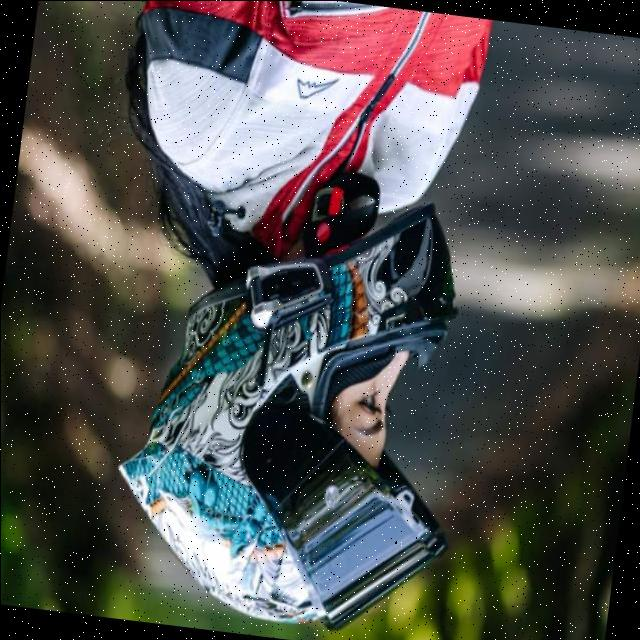Helm: (91, 163, 490, 640)
